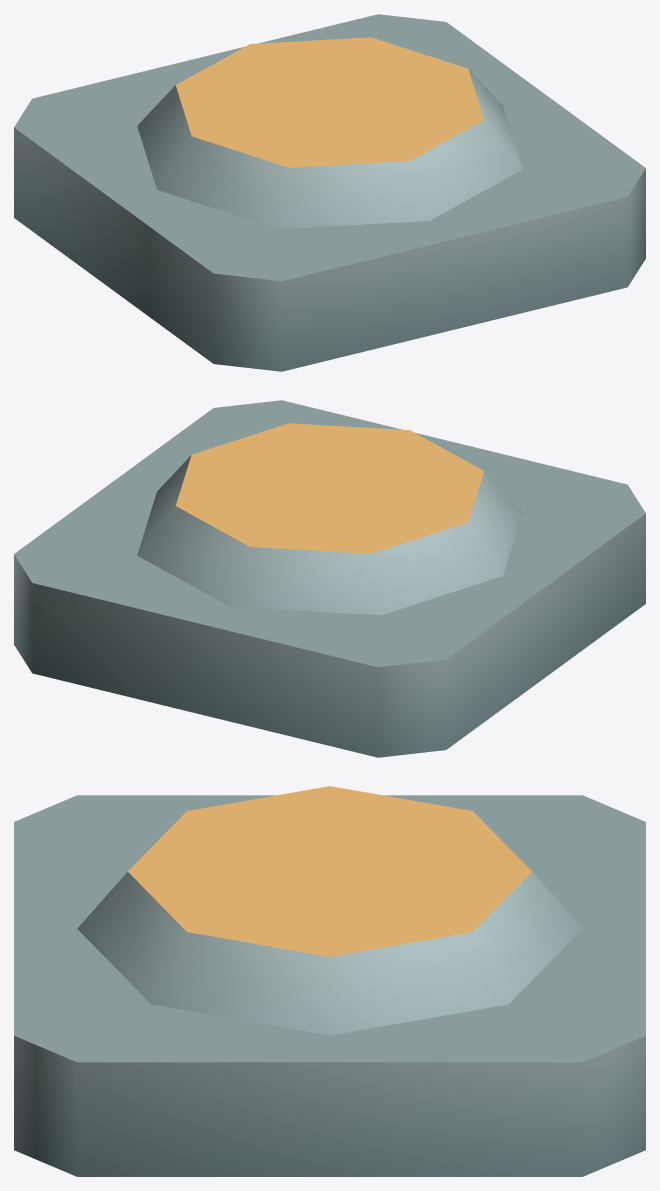
The model's file is button-floor-round.glb.
3 renders of one model, top to bottom at view 1: azimuth 30°, elevation 25°; view 2: azimuth 150°, elevation 25°; view 3: azimuth 270°, elevation 25°, orthographic. The views are drawn at different scales.
Parts seen in each view (by area): view 1: button-floor-round, button; view 2: button-floor-round, button; view 3: button-floor-round, button.
Part boxes in pixels (bbox=[...]): button-floor-round: bbox=[14, 14, 645, 371]; button: bbox=[137, 37, 522, 229]; button-floor-round: bbox=[14, 400, 645, 757]; button: bbox=[137, 423, 522, 615]; button-floor-round: bbox=[14, 795, 645, 1176]; button: bbox=[77, 786, 582, 1035].
Size of the model in its own units: 0.5 by 0.15 by 0.5.
1 material, 1 textured.
